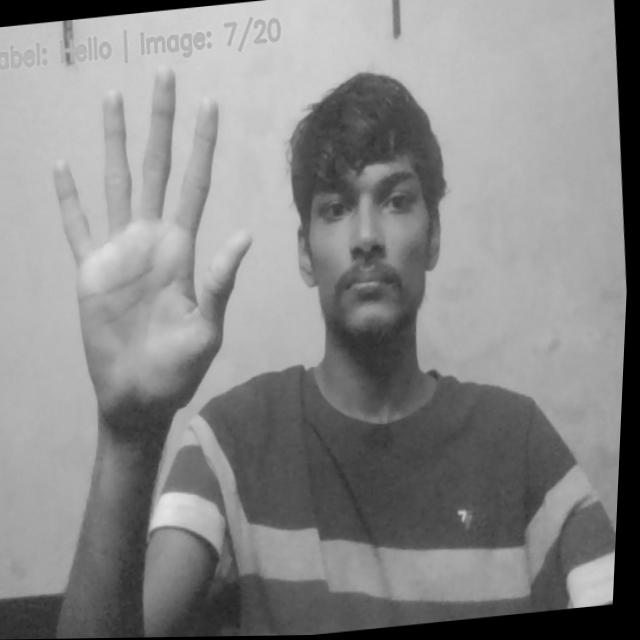Hello: (30, 58, 279, 426)
